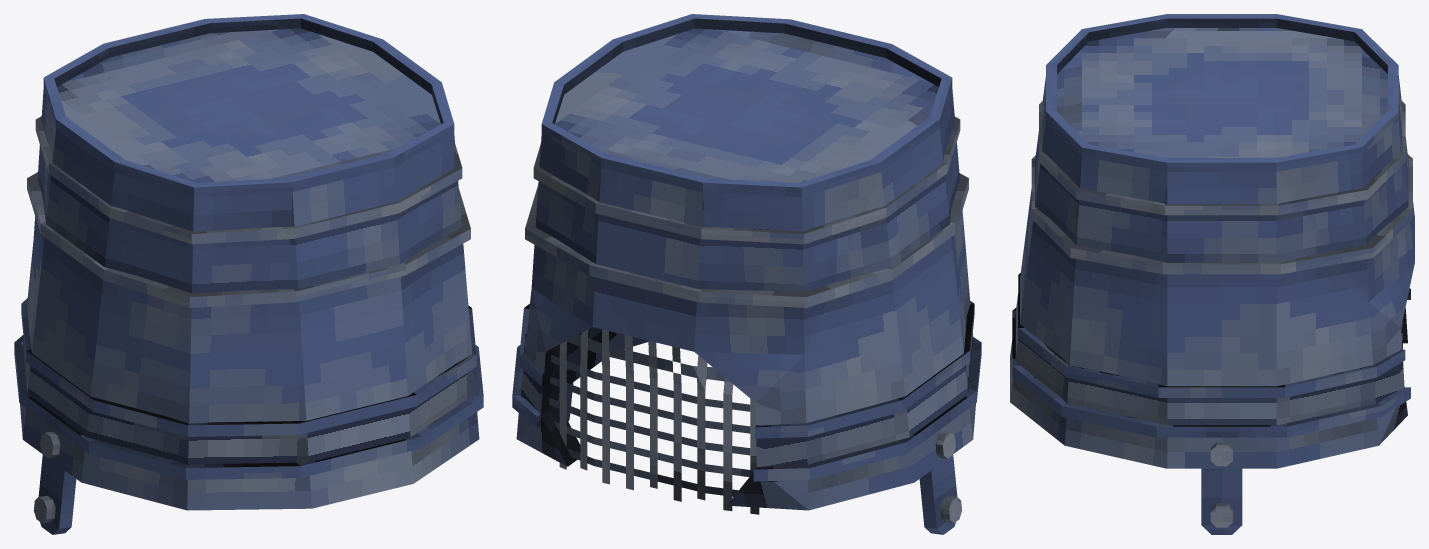
3 views of the same model, side by side, from view 1: azimuth 30°, elevation 25°; view 2: azimuth 150°, elevation 25°; view 3: azimuth 270°, elevation 25° (orthographic). The views are drawn at different scales.
Visible parts, largest first — view 1: head; view 2: head; view 3: head.
Part boxes in pixels (x1,y1,x2,y2): head: (14,14,483,534); head: (512,14,981,534); head: (1010,14,1414,534).
Bounding box in the file's own units: 0.8278 × 0.7208 × 0.7425.
1 material, 1 textured.
